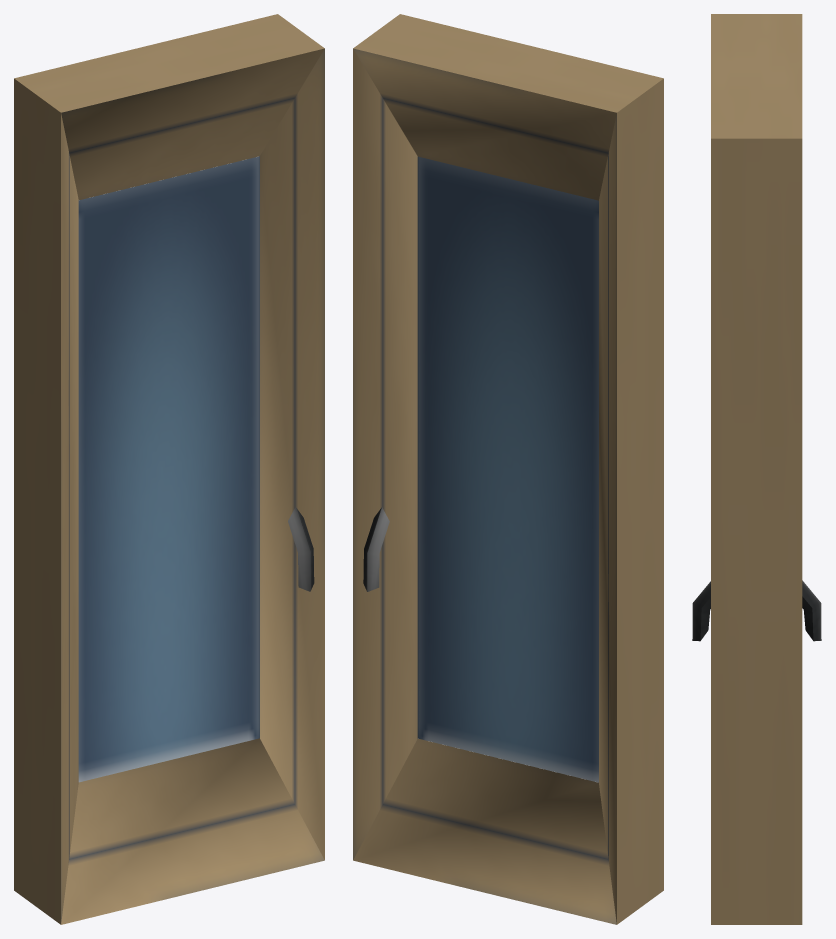
Rendered from office5-door.fbx.
The picture shows the model from 3 angles, left to right: view 1: azimuth 30°, elevation 25°; view 2: azimuth 150°, elevation 25°; view 3: azimuth 270°, elevation 25°; orthographic projection. The views are drawn at different scales.
Parts seen in each view (by area): view 1: outside.001; view 2: outside.001; view 3: outside.001.
Boxes of the visible parts, <box> form: outside.001: <box>14,14,324,924</box>; outside.001: <box>353,14,663,924</box>; outside.001: <box>692,14,821,924</box>.
Bounding box in the file's own units: 91.37 × 269 × 39.97.
2 materials, 2 textured.
